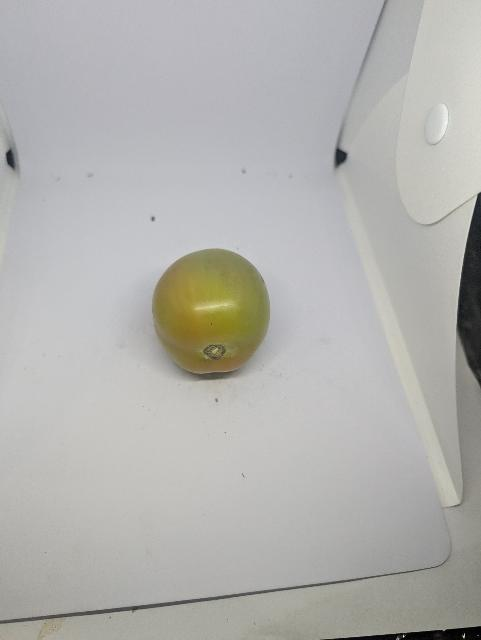breaker: (149, 247, 275, 380)
